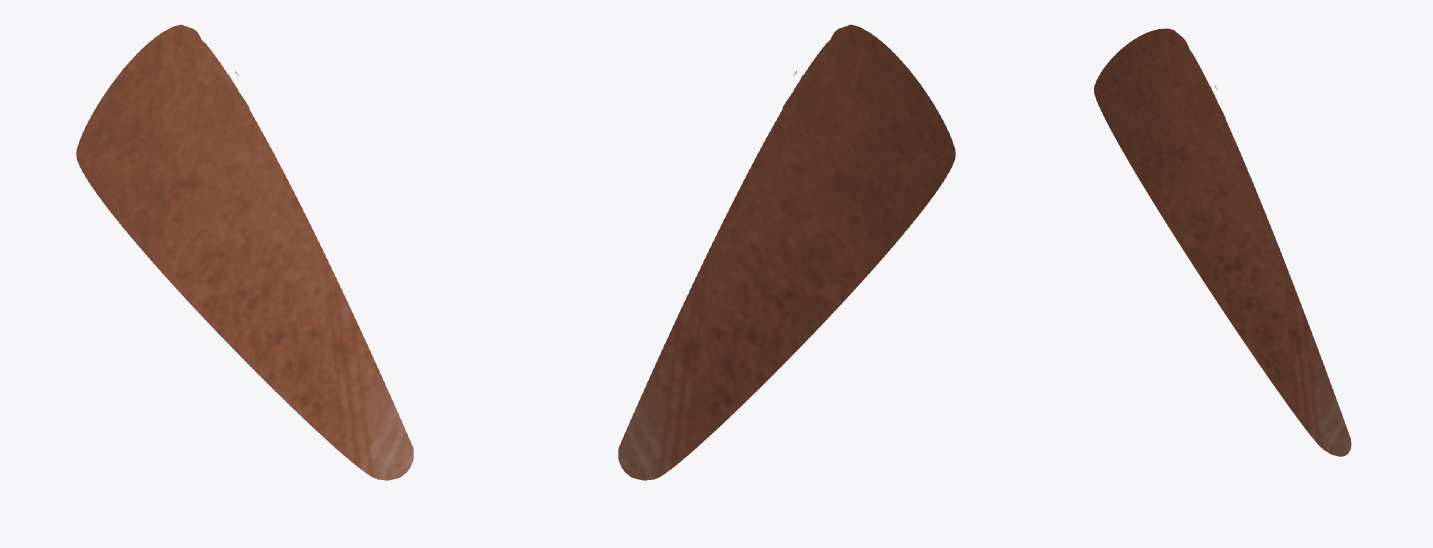
File: Ocell_Electro_Ala_Davant.fbx
3 views of the same model, side by side, from view 1: azimuth 30°, elevation 25°; view 2: azimuth 150°, elevation 25°; view 3: azimuth 330°, elevation 25° (orthographic). The views are drawn at different scales.
Parts seen in each view (by area): view 1: Ocell_Electro_ALA_Davant; view 2: Ocell_Electro_ALA_Davant; view 3: Ocell_Electro_ALA_Davant.
Boxes of the visible parts, x1,y1,x2,y2 form: Ocell_Electro_ALA_Davant: [76, 24, 413, 480]; Ocell_Electro_ALA_Davant: [618, 24, 955, 480]; Ocell_Electro_ALA_Davant: [1094, 28, 1351, 456].
Size of the model in its own units: 324 by 380 by 0.
